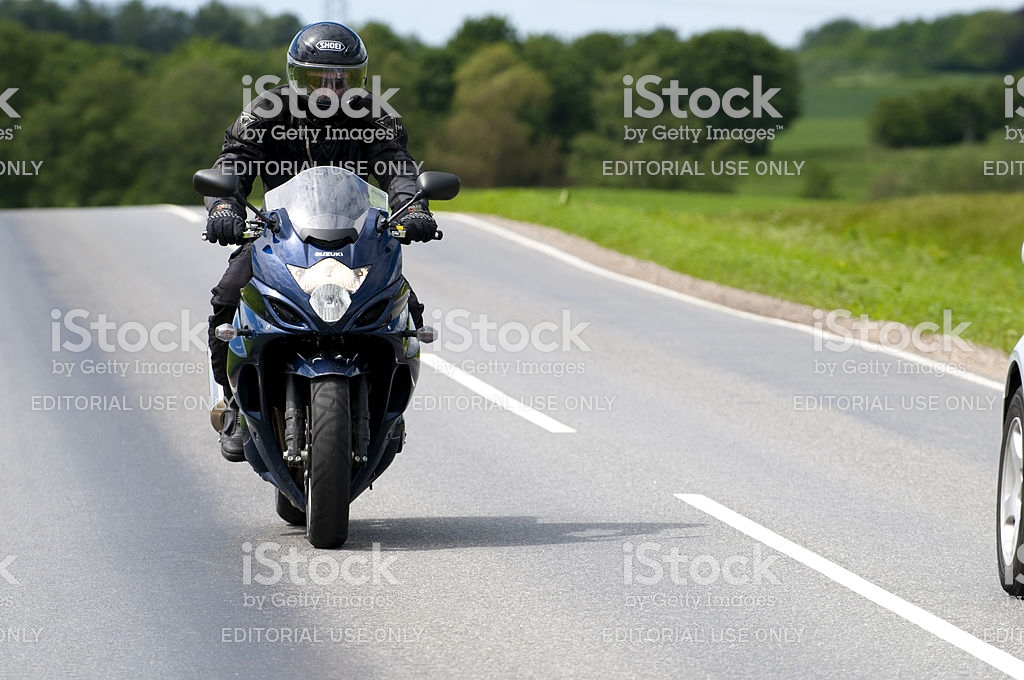helmet: (284, 19, 366, 101)
